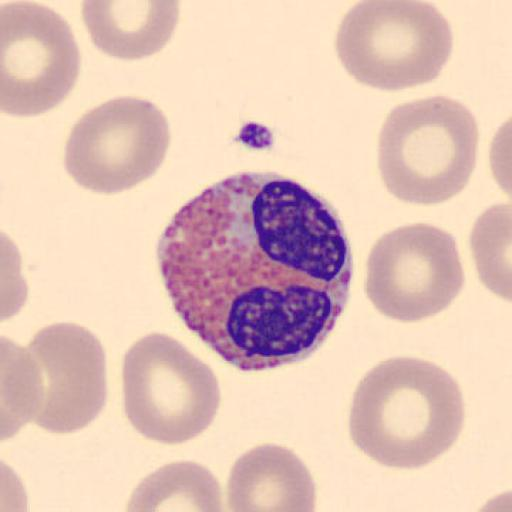RBC: (346, 354, 468, 471), (375, 92, 480, 207), (119, 329, 221, 447), (333, 0, 455, 93), (62, 93, 171, 196), (362, 220, 466, 324), (20, 320, 109, 435), (1, 0, 82, 118), (225, 440, 317, 512), (80, 0, 182, 62), (122, 457, 226, 512), (469, 200, 512, 306), (2, 334, 42, 440), (0, 229, 30, 324), (489, 114, 512, 202), (0, 457, 30, 512), (471, 486, 512, 512)
WBC: (158, 171, 354, 372)
